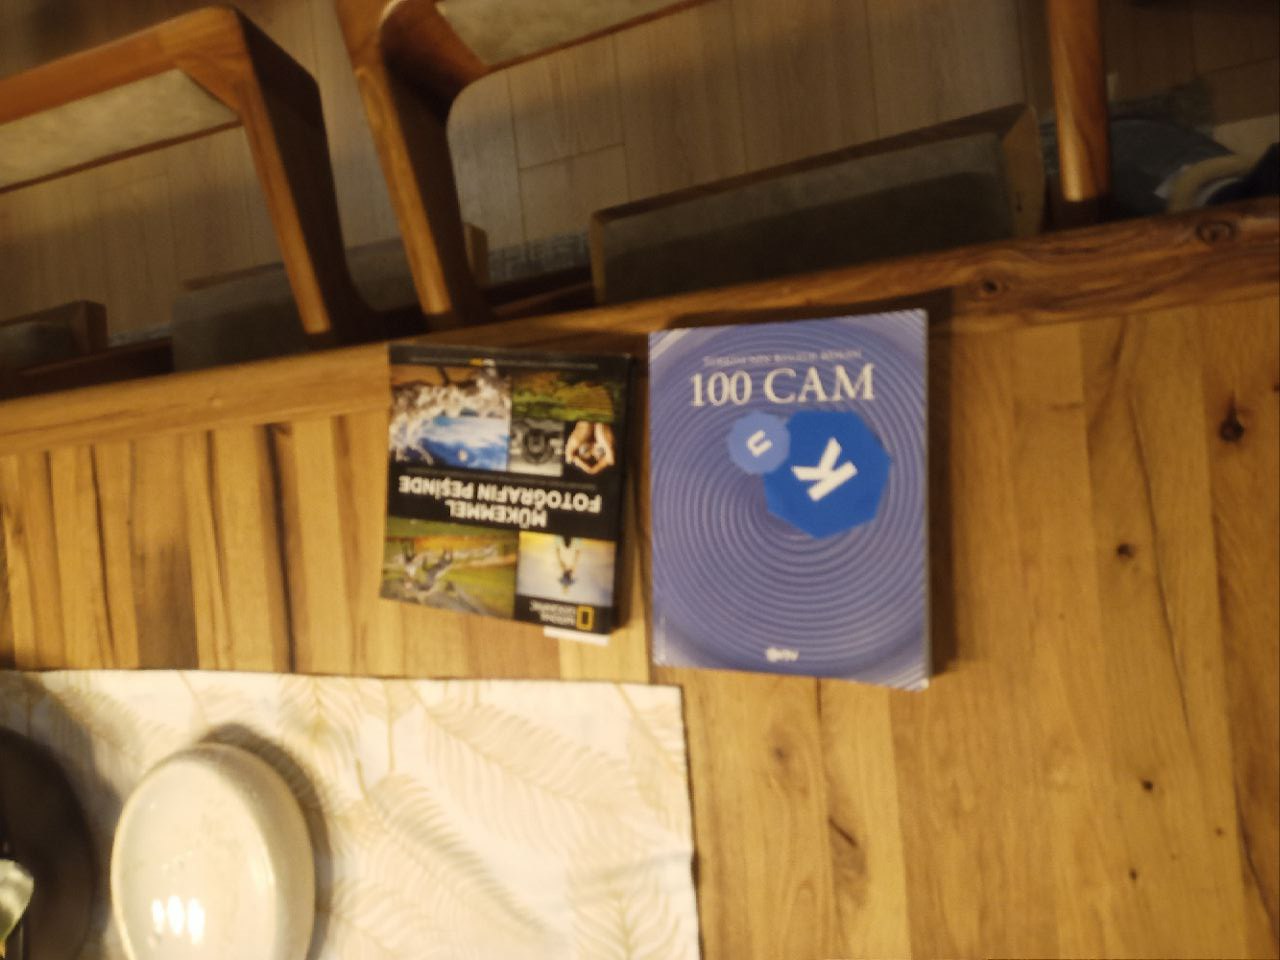knative: (727, 409, 894, 538)
